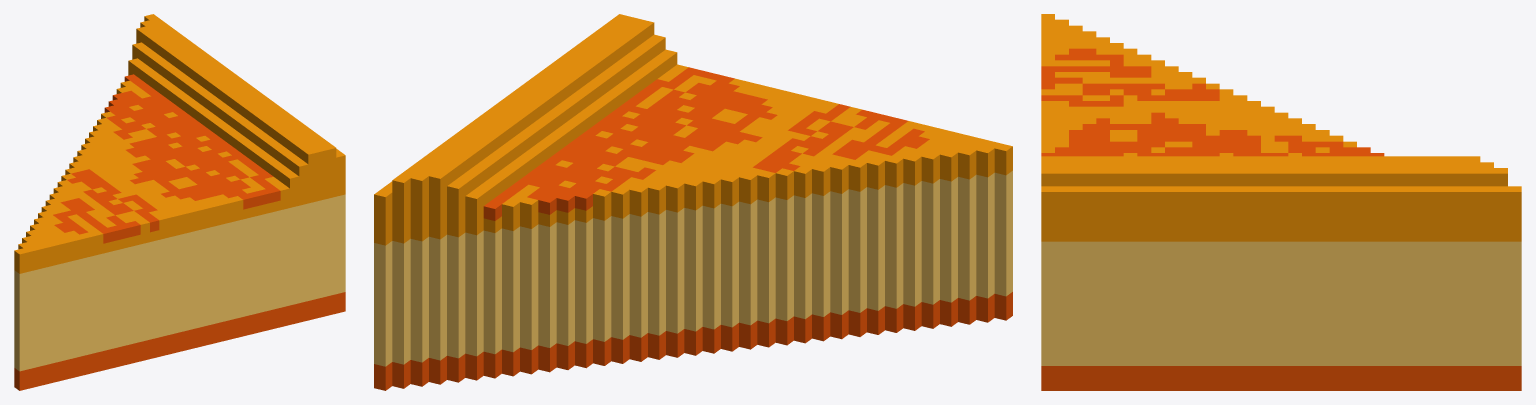
Rendered from cheesecake.obj.
3 views of the same model, side by side, from view 1: azimuth 30°, elevation 25°; view 2: azimuth 150°, elevation 25°; view 3: azimuth 270°, elevation 25° (orthographic). The views are drawn at different scales.
Visible parts, largest first — view 1: cheesecake; view 2: cheesecake; view 3: cheesecake.
Part boxes in pixels (bbox=[...]): cheesecake: bbox=[14, 14, 345, 390]; cheesecake: bbox=[374, 14, 1012, 390]; cheesecake: bbox=[1041, 14, 1521, 390].
Bounding box in the file's own units: 35 × 17 × 35.
Materials: 1 (1 with a texture image).
